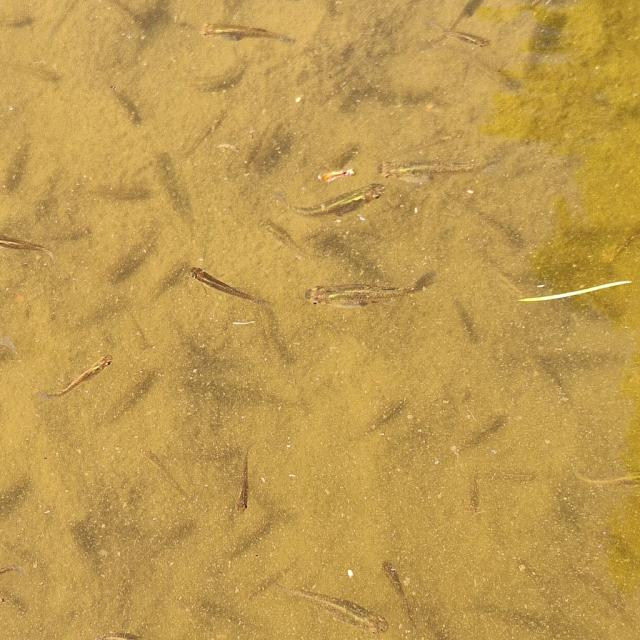Sivrisinek Baligi: (298, 267, 448, 308), (296, 586, 401, 638), (278, 184, 385, 222), (44, 350, 114, 404), (186, 262, 266, 309), (198, 14, 294, 49), (230, 446, 260, 514), (433, 22, 492, 52), (0, 228, 52, 260), (318, 160, 358, 186), (224, 312, 264, 332)
